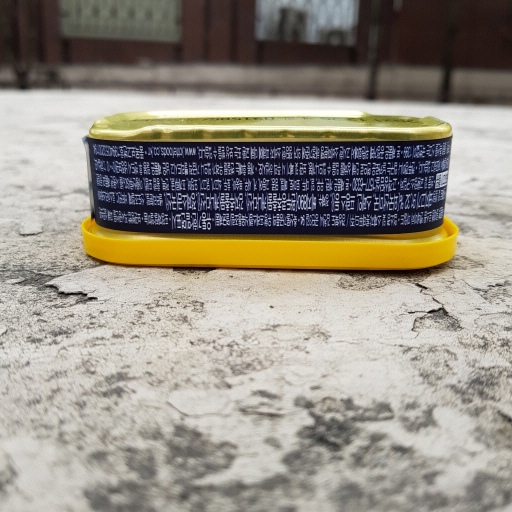Metal_2: (81, 107, 460, 268)
